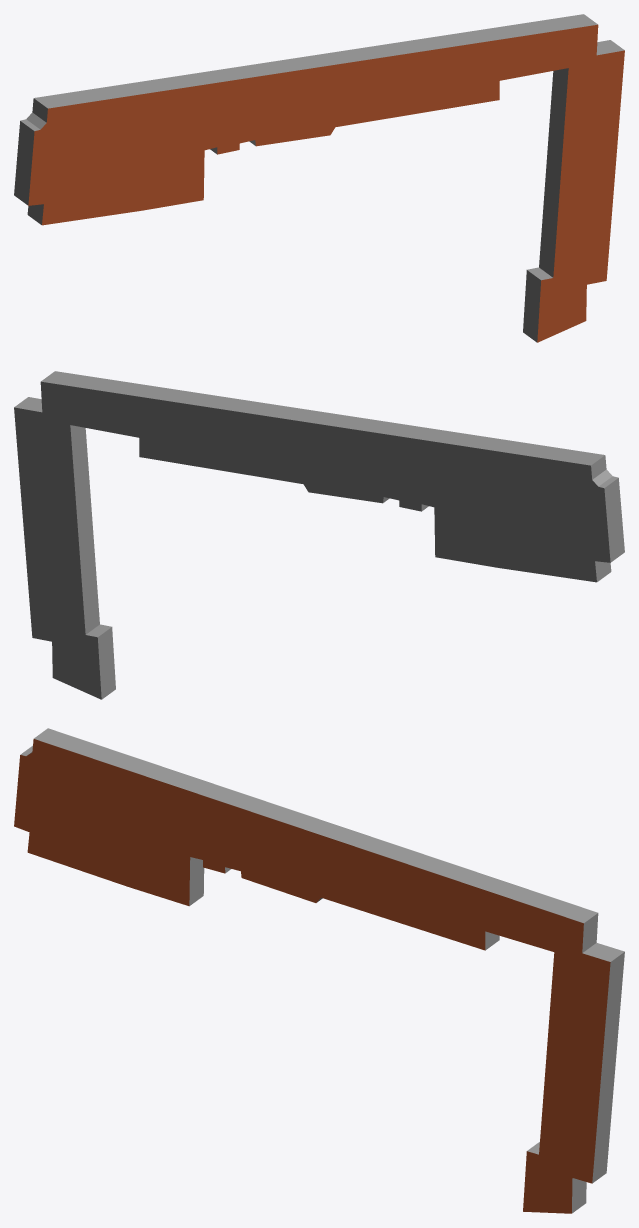
The model's file is construction_0367_assumed_A_Casa_h6m.obj.
3 renders of one model, top to bottom at view 1: azimuth 30°, elevation 25°; view 2: azimuth 150°, elevation 25°; view 3: azimuth 330°, elevation 25°, orthographic.
Parts seen in each view (by area): view 1: construction_0367_assumed_A_Casa; view 2: construction_0367_assumed_A_Casa; view 3: construction_0367_assumed_A_Casa.
Boxes of the visible parts, x1=… form: construction_0367_assumed_A_Casa: x1=14, y1=14, x2=624, y2=342; construction_0367_assumed_A_Casa: x1=14, y1=371, x2=624, y2=699; construction_0367_assumed_A_Casa: x1=14, y1=728, x2=624, y2=1213.
Size of the model in its own units: 144 by 81.32 by 6.
